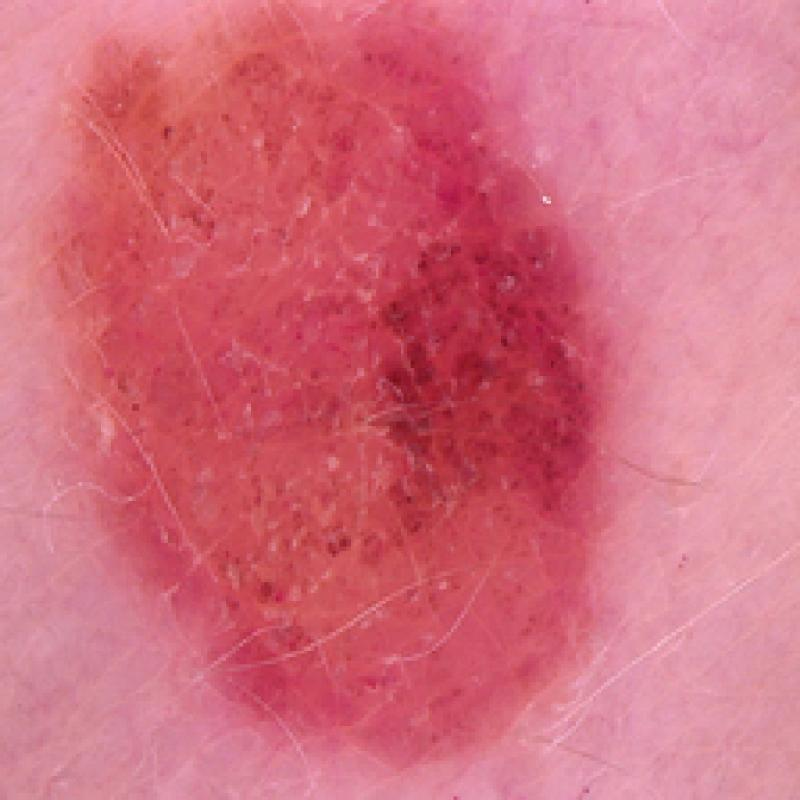benign: (35, 8, 622, 764)
